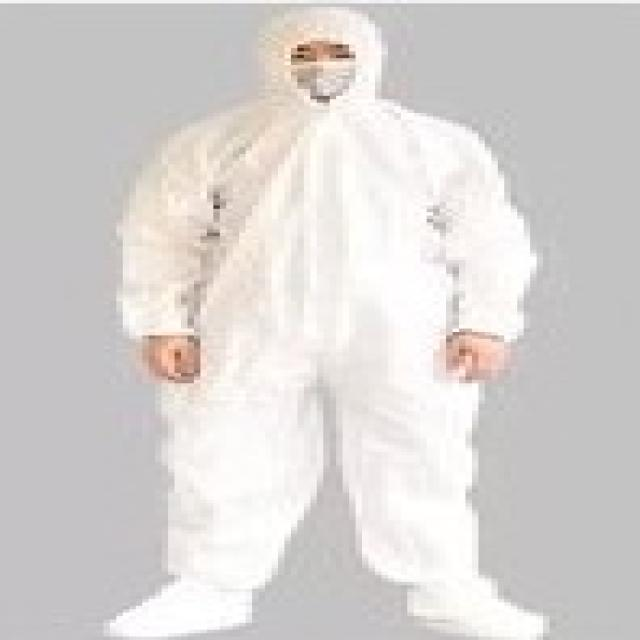Coverall: (26, 7, 582, 640)
Mask: (284, 51, 368, 103)
